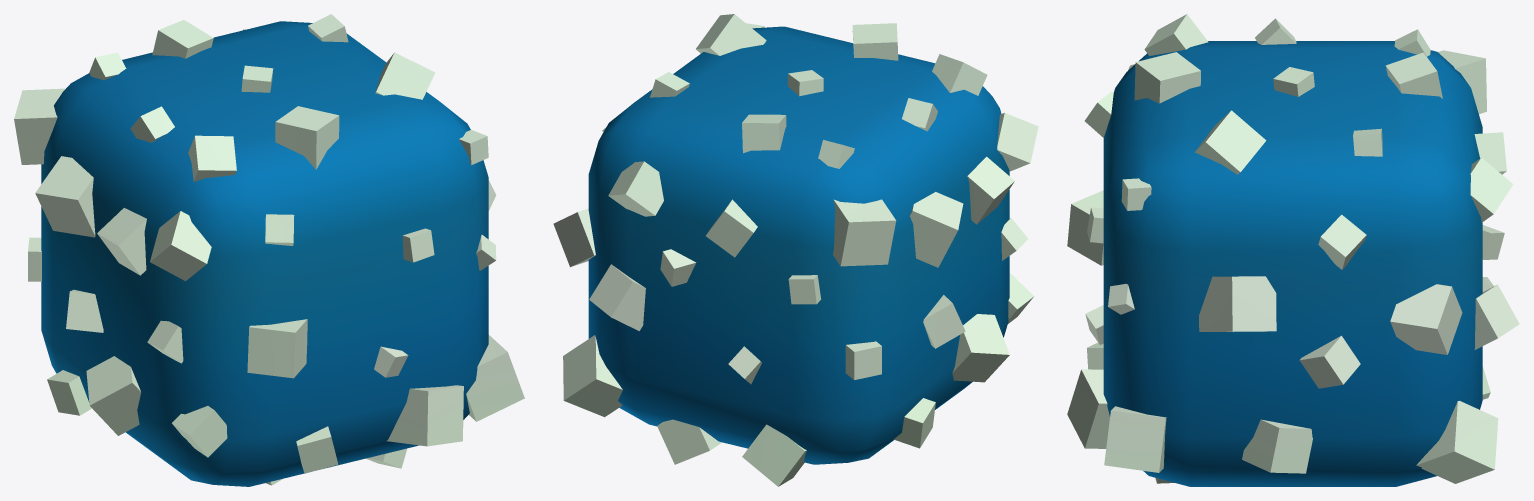
File: candy_glass_23.fbx
The picture shows the model from 3 angles, left to right: view 1: azimuth 30°, elevation 25°; view 2: azimuth 150°, elevation 25°; view 3: azimuth 270°, elevation 25°; orthographic projection. The views are drawn at different scales.
Visible parts, largest first — view 1: c_g_23; view 2: c_g_23; view 3: c_g_23.
Part boxes in pixels (x1,y1,x2,y2): c_g_23: (14,14,524,486); c_g_23: (553,14,1038,486); c_g_23: (1067,14,1519,486).
Size of the model in its own units: 139 by 128 by 134.
